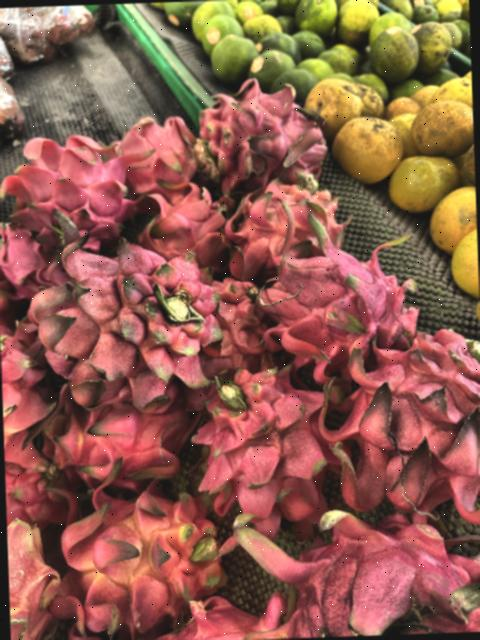buah-naga-belum-matang: (6, 514, 61, 640)
buah-naga-matang: (39, 220, 243, 409), (231, 503, 480, 640), (318, 321, 480, 514), (45, 481, 219, 625), (193, 363, 338, 531), (250, 238, 422, 358), (41, 383, 193, 488), (0, 135, 141, 239), (184, 85, 330, 184), (226, 176, 349, 272), (136, 185, 238, 272), (108, 118, 206, 194), (0, 334, 52, 459), (4, 453, 74, 521), (155, 607, 281, 640), (0, 226, 50, 297)
